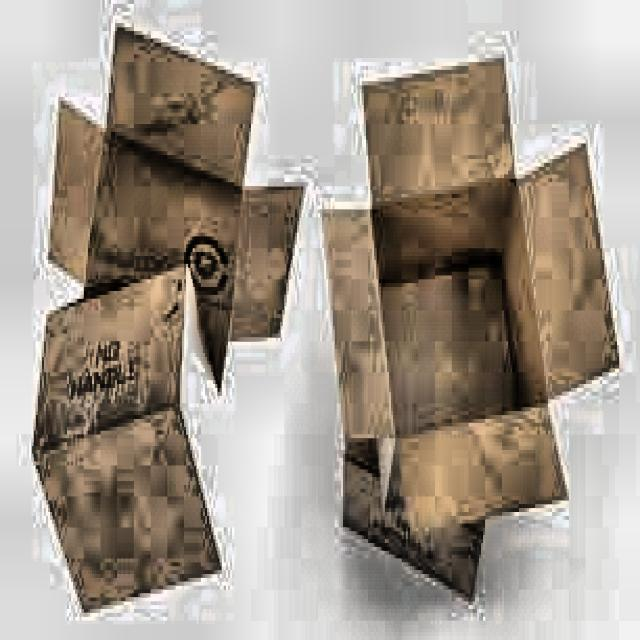Cardbox: (22, 0, 311, 620), (314, 50, 626, 540)
